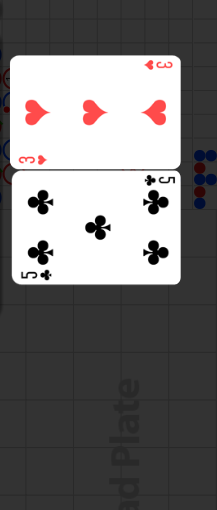3H: (142, 59, 174, 72)
5C: (20, 268, 54, 283)
